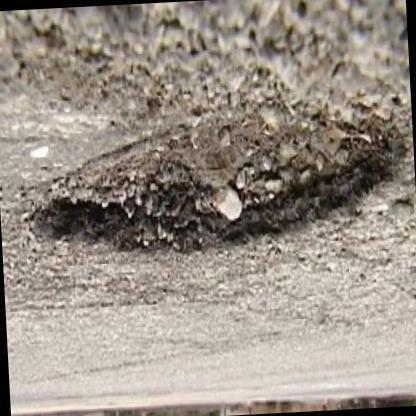pothole: (24, 88, 406, 258)
